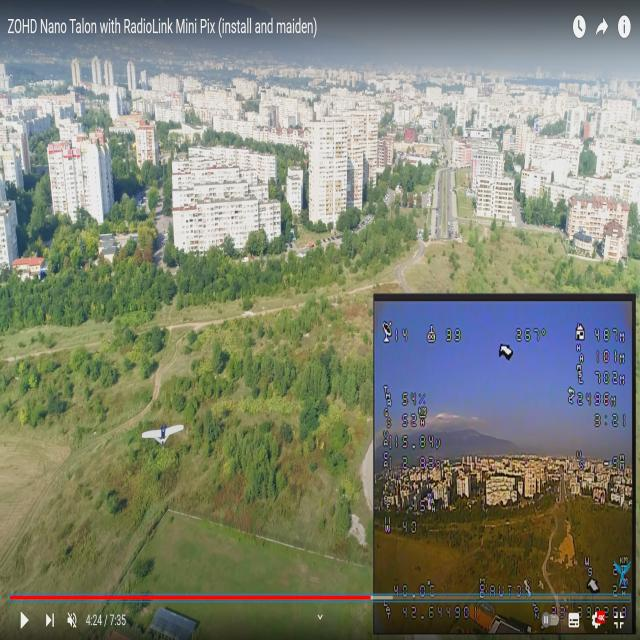iha: (140, 419, 188, 455)
